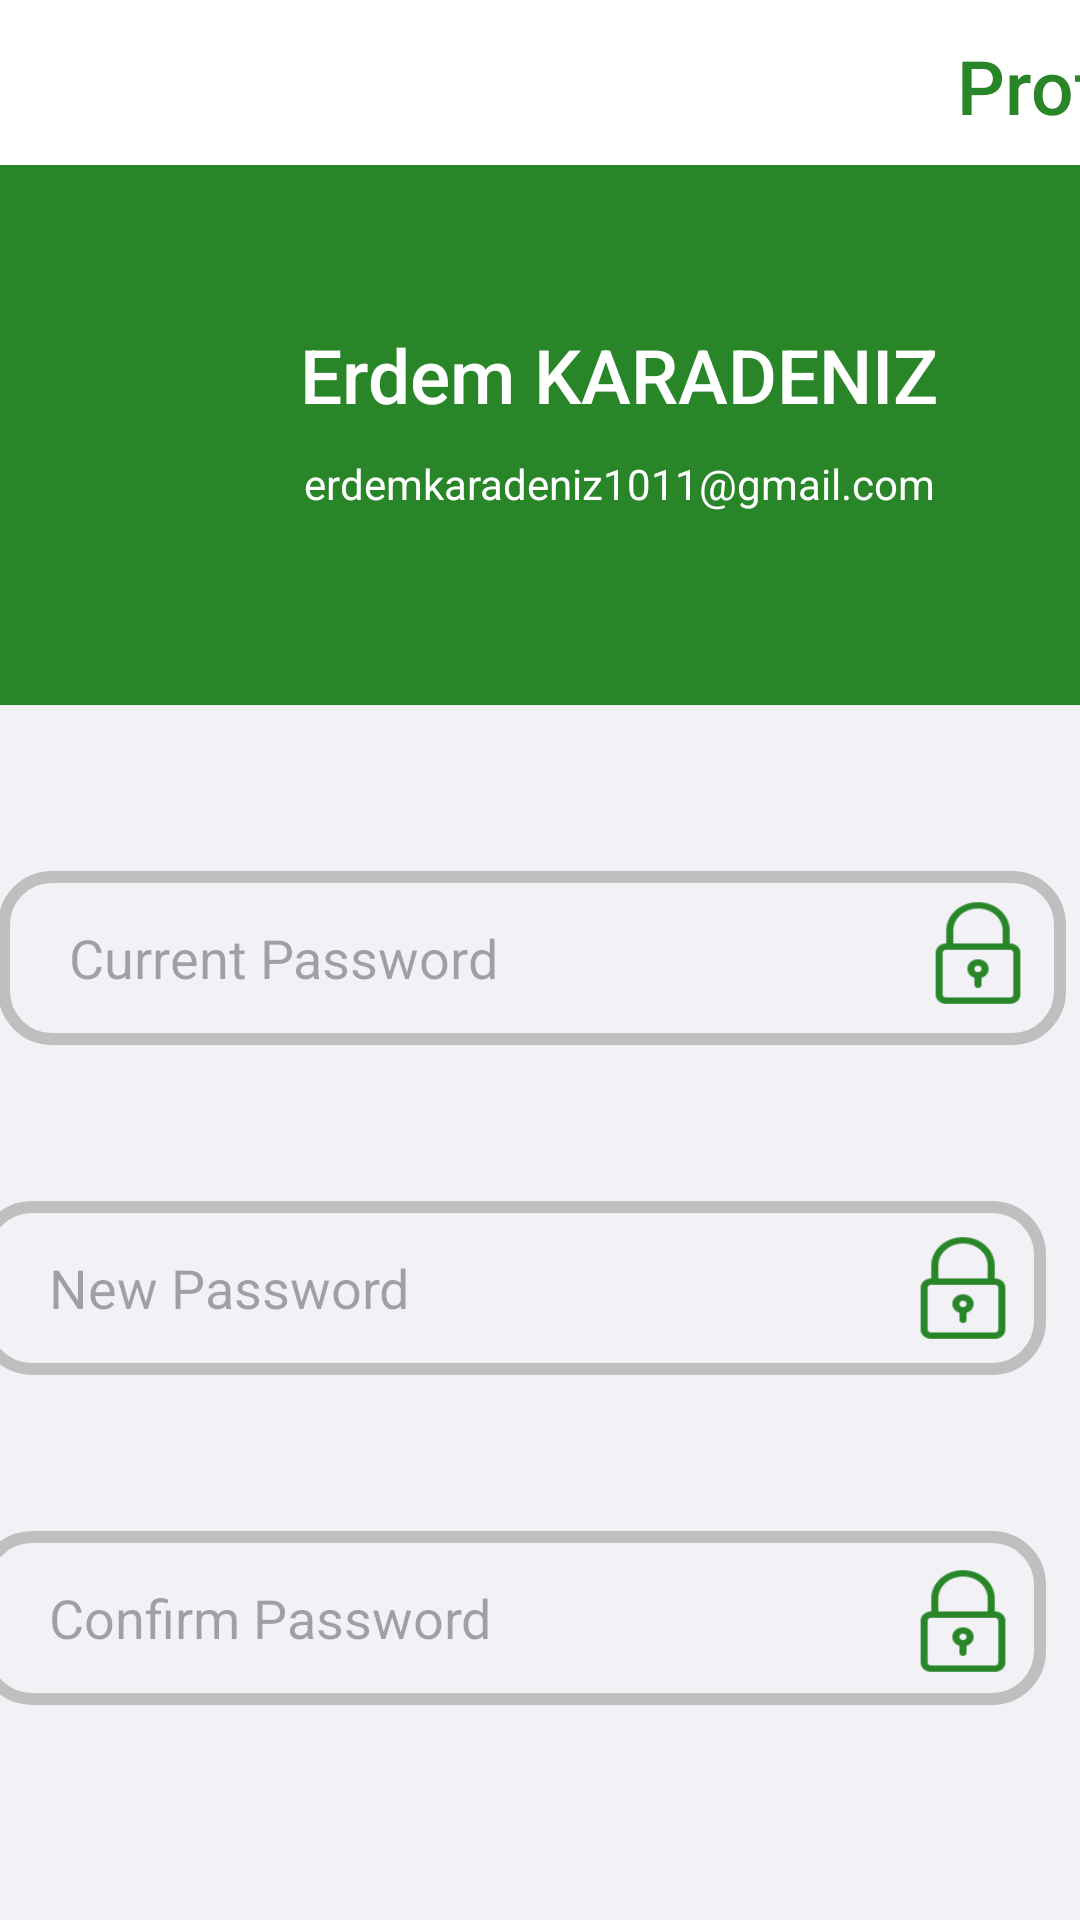

Icon bounding boxes for this 1080 × 1920 phone screenshot, format (x1, y1, x2, y2):
padlock: (935, 902, 1021, 1004), (920, 1237, 1006, 1339), (920, 1570, 1006, 1672)
